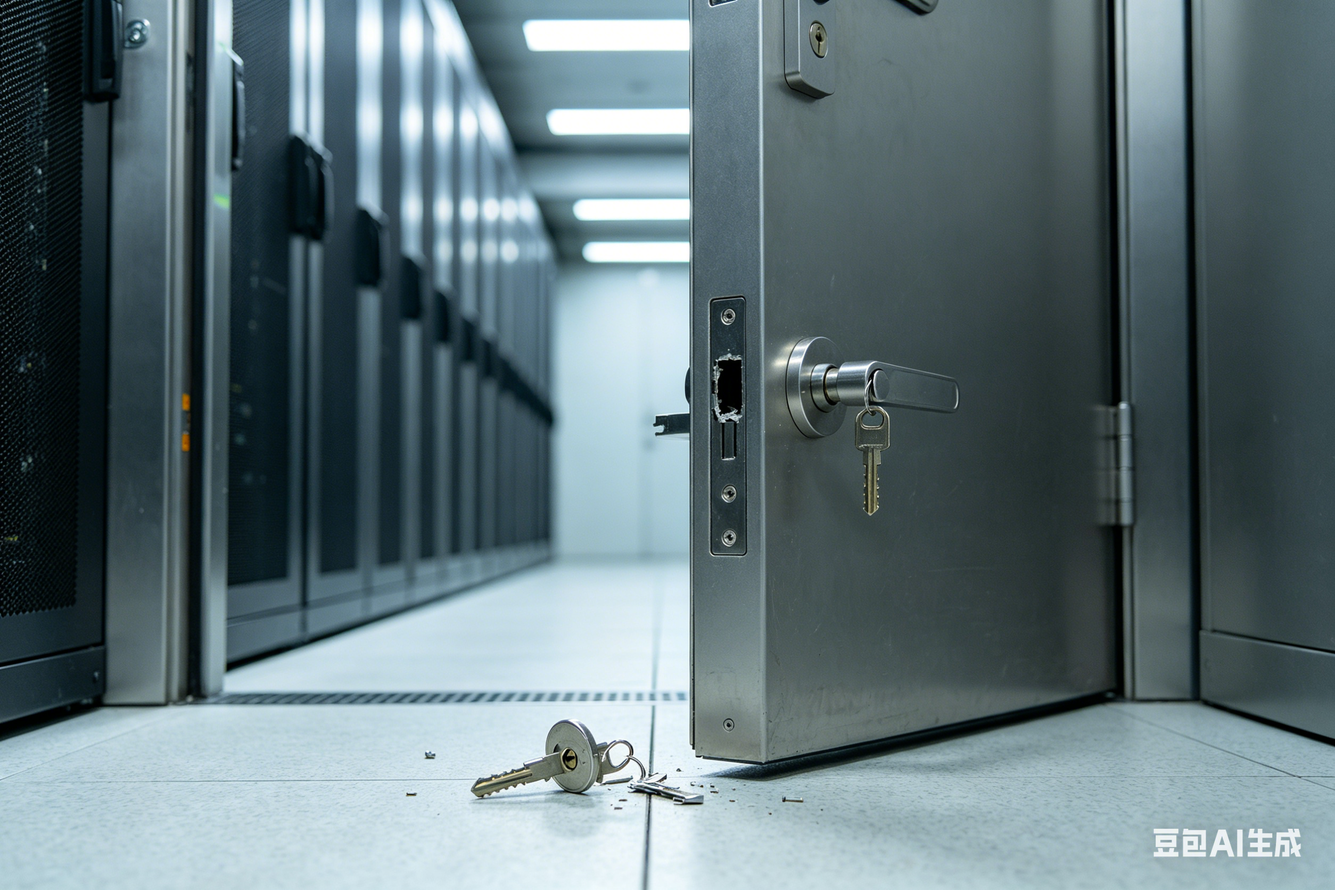BadLock: (701, 345, 755, 449)
